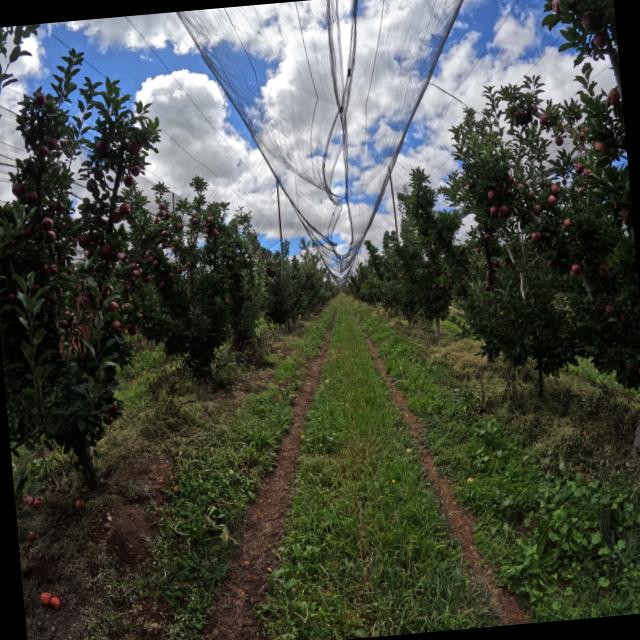-FireBlight-: (59, 270, 104, 360)
